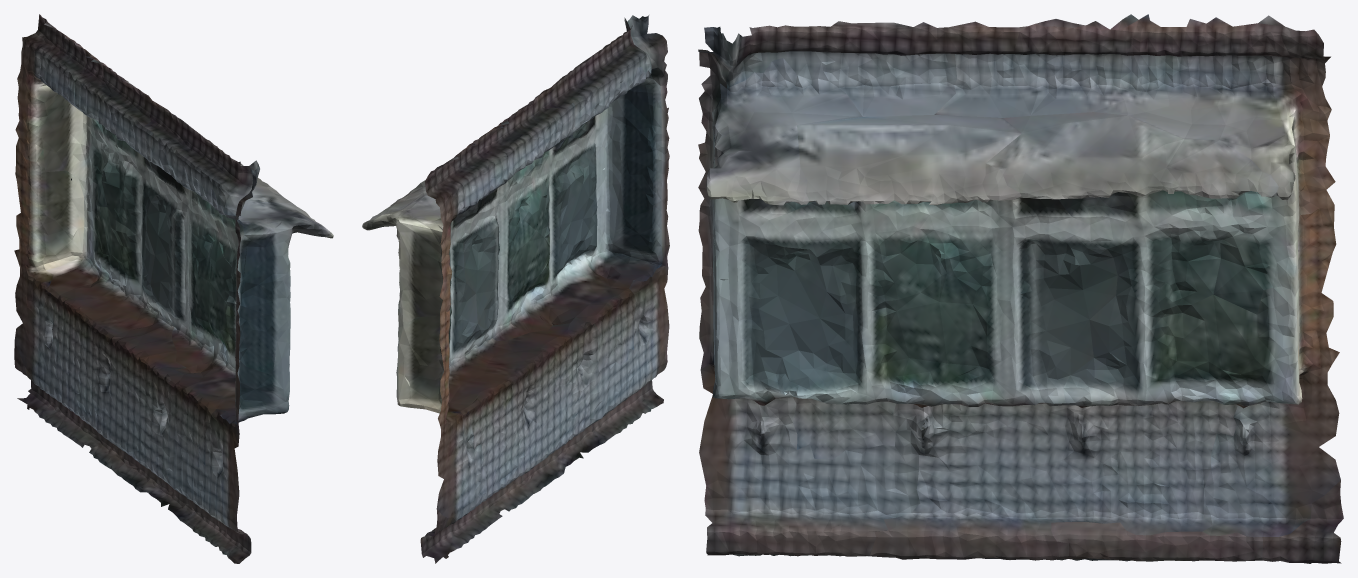
3 views of the same model, side by side, from view 1: azimuth 30°, elevation 25°; view 2: azimuth 150°, elevation 25°; view 3: azimuth 270°, elevation 25° (orthographic). The views are drawn at different scales.
Parts seen in each view (by area): view 1: 3dscan1; view 2: 3dscan1; view 3: 3dscan1.
Boxes of the visible parts, <box> form: 3dscan1: <box>14,14,333,563</box>; 3dscan1: <box>362,15,669,563</box>; 3dscan1: <box>698,14,1343,563</box>.
Size of the model in its own units: 0.2775 by 1.02 by 1.09.
1 material, 1 textured.
